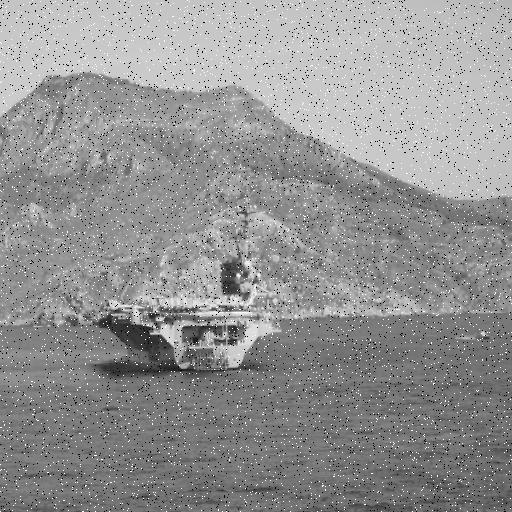Portanaves: (94, 166, 281, 379)
